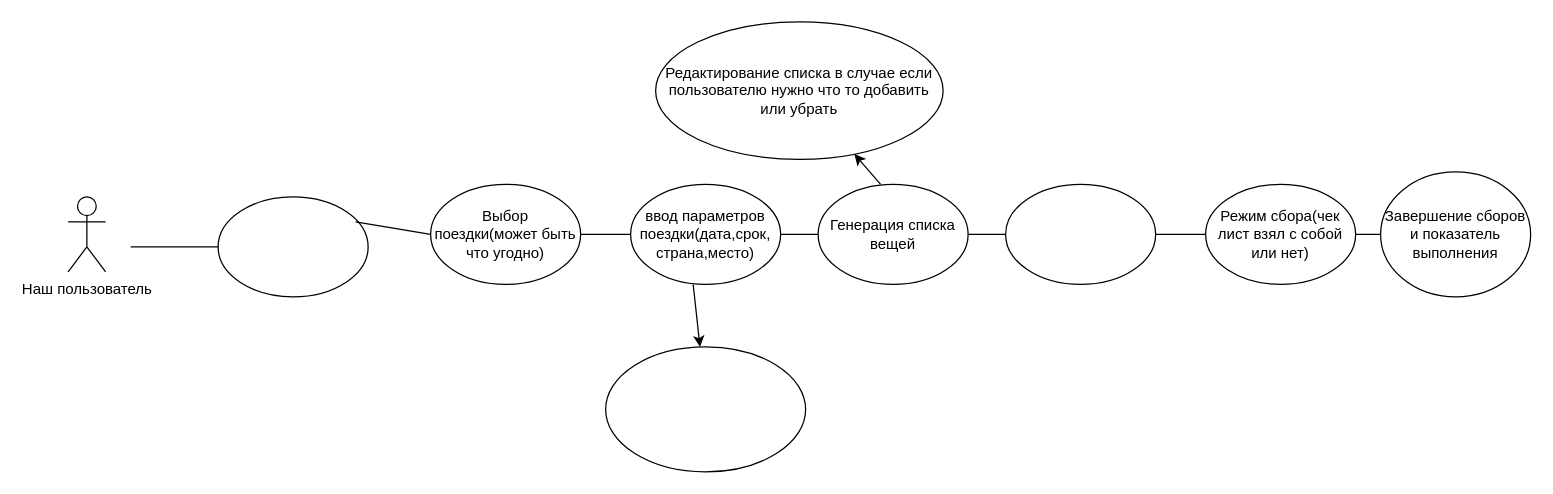
Some shapes in this 1553 by 494 pixel diagram are drawn without their labels. The centre of each missing label's shape, as x and y in pixels:
"Опционально(уточнение условий) Например: палатка отель море горы" belongs at (705,409).
"Сохранение итогового списка" belongs at (1080,233).
"Старт/Открытие приложения" belongs at (292,246).
